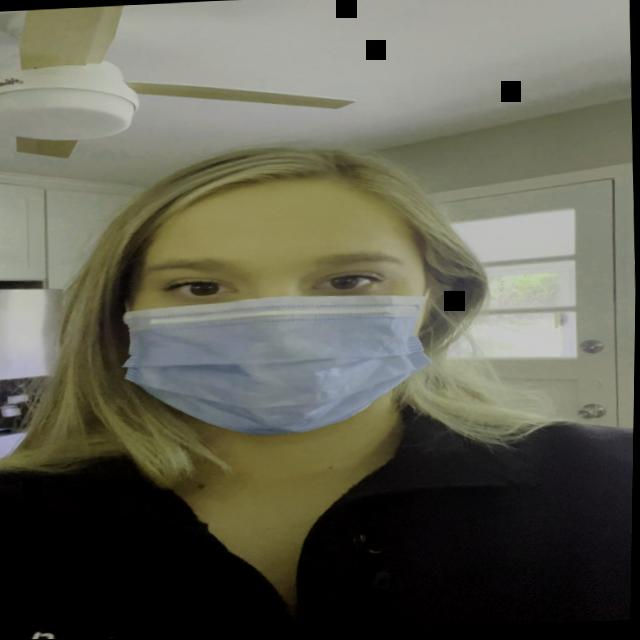Mask: (70, 152, 490, 467)
